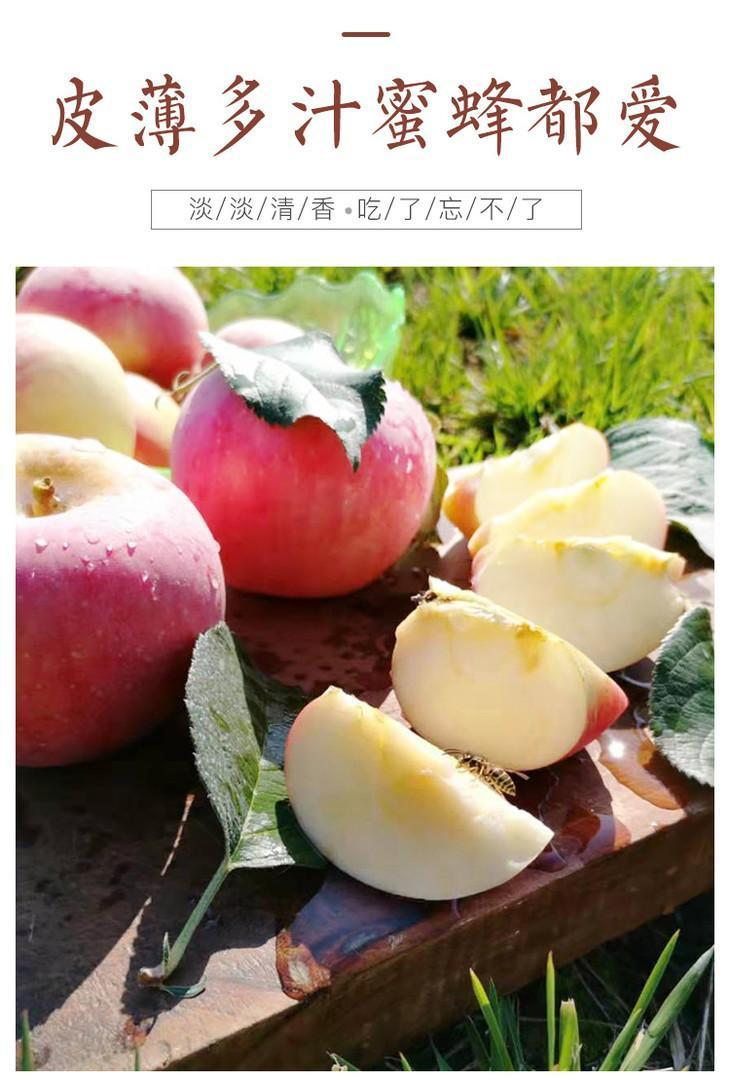apple: (9, 436, 220, 769), (174, 341, 439, 582), (16, 266, 205, 390)
